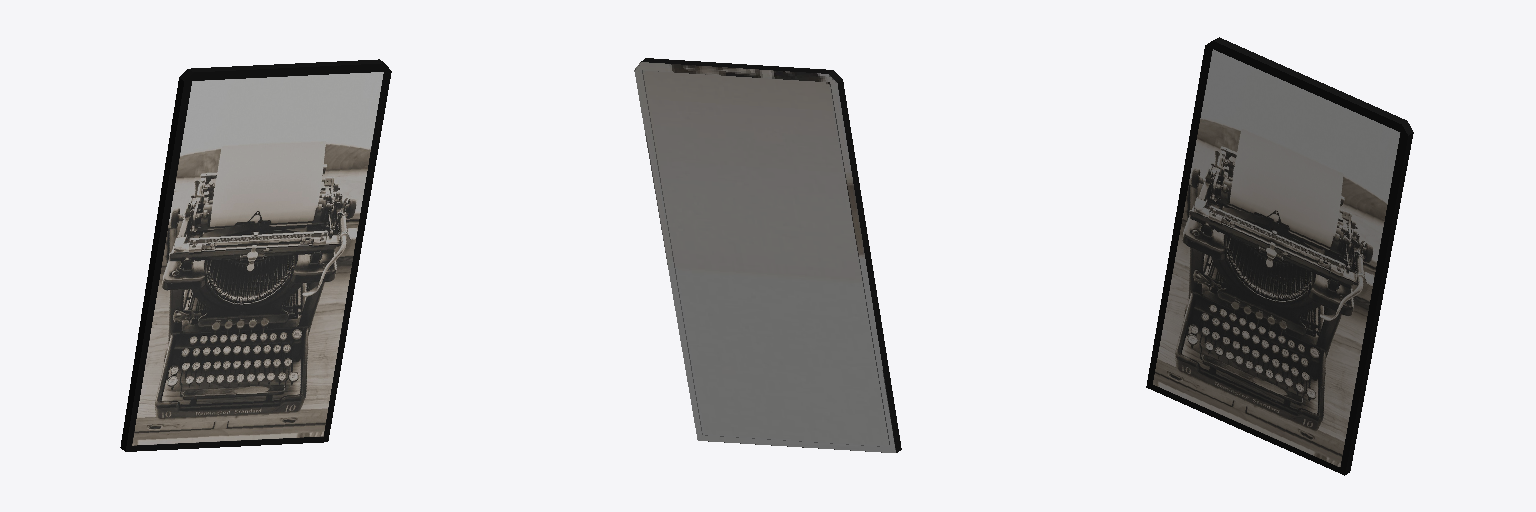
3 views of the same model, side by side, from view 1: azimuth 30°, elevation 25°; view 2: azimuth 150°, elevation 25°; view 3: azimuth 330°, elevation 25° (orthographic).
Parts seen in each view (by area): view 1: Plane.017_tablo_eski, Plane.017_m_black; view 2: Plane.017_tablo_eski, Plane.017_m_black; view 3: Plane.017_tablo_eski, Plane.017_m_black.
Boxes of the visible parts, x1,y1,x2,y2 form: Plane.017_tablo_eski: [132, 72, 383, 445]; Plane.017_m_black: [120, 59, 391, 451]; Plane.017_tablo_eski: [634, 62, 895, 452]; Plane.017_m_black: [641, 58, 901, 452]; Plane.017_tablo_eski: [1153, 49, 1400, 466]; Plane.017_m_black: [1146, 37, 1413, 475].
Bounding box in the file's own units: 12.98 × 18.81 × 0.6305.
2 materials, 1 textured.